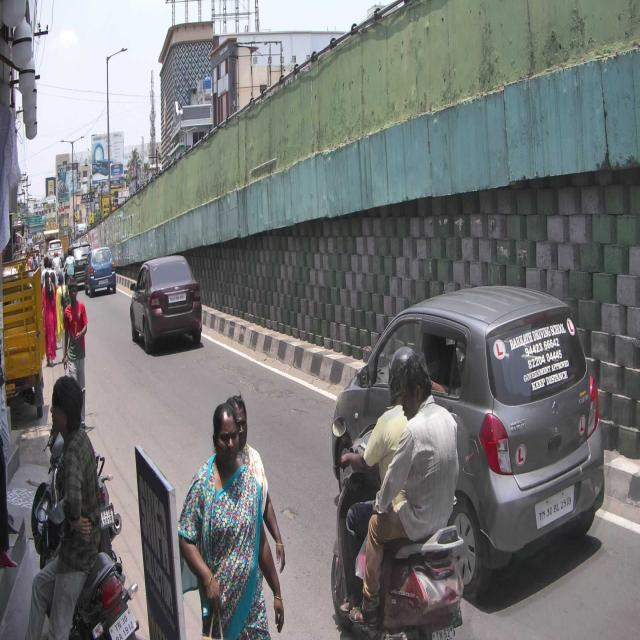double_rider: (330, 345, 466, 640)
